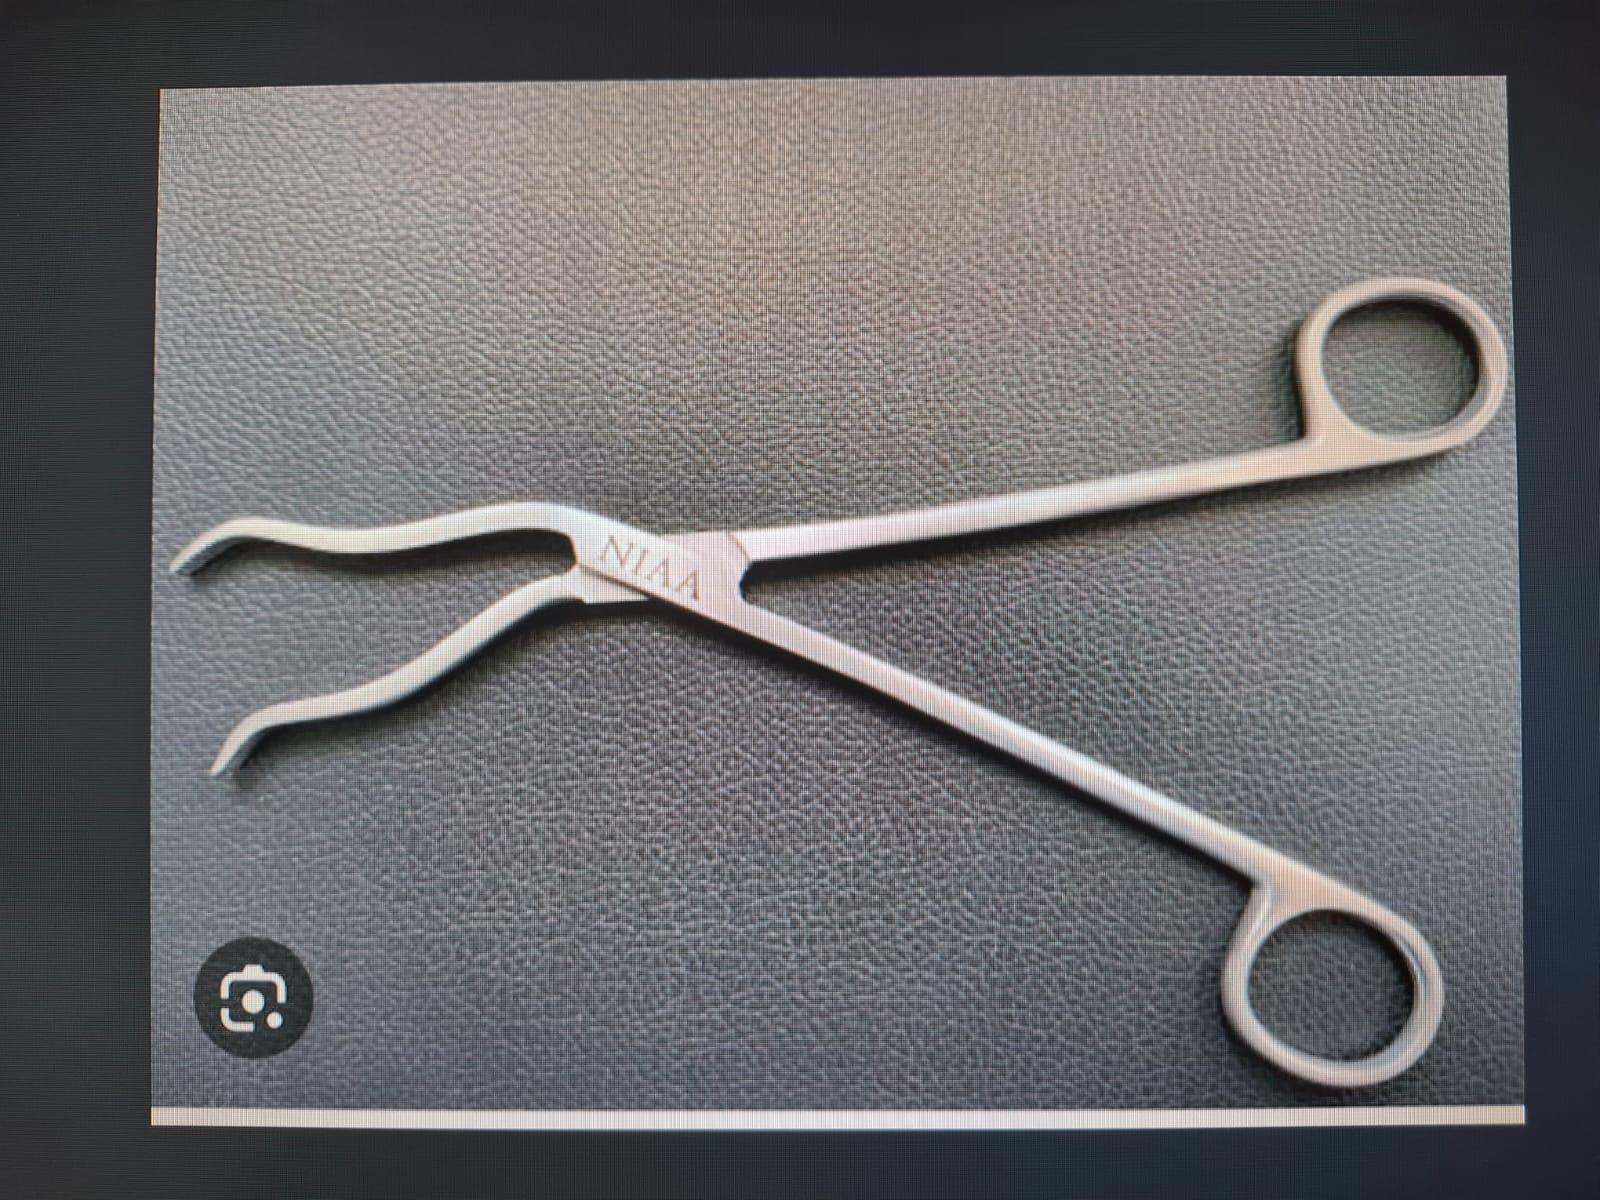Cheatle Forceps: (157, 276, 1514, 1111)
